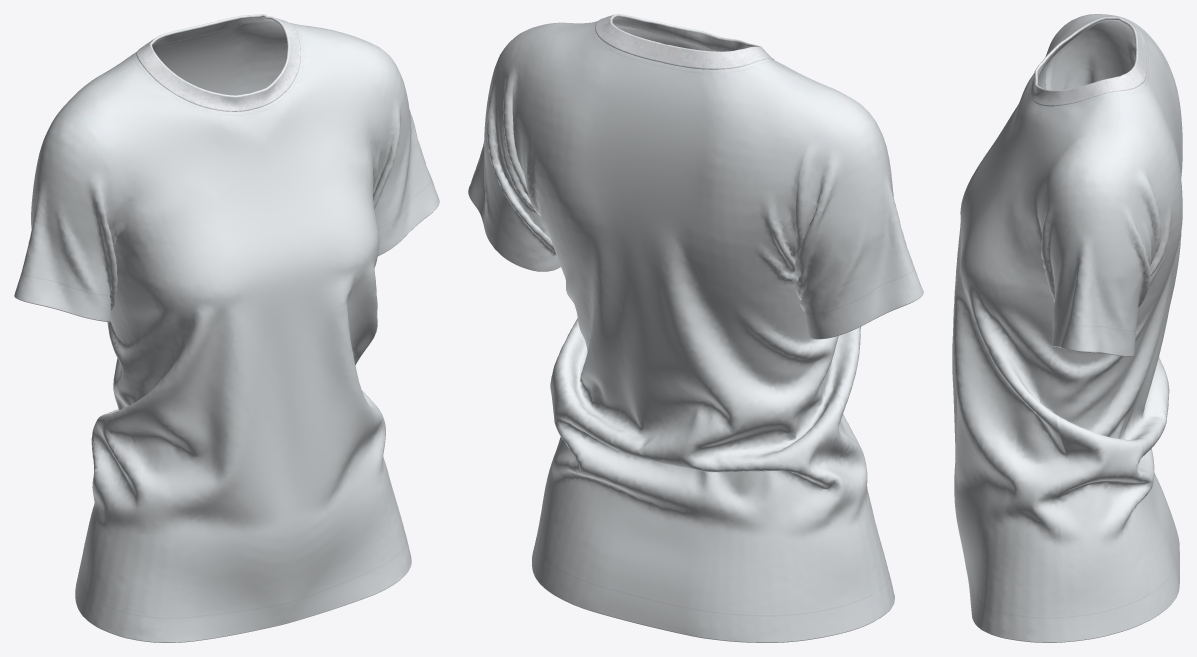
Rendered from shirt.glb.
3 renders of one model, left to right at view 1: azimuth 30°, elevation 25°; view 2: azimuth 150°, elevation 25°; view 3: azimuth 270°, elevation 25°, orthographic. The views are drawn at different scales.
Parts seen in each view (by area): view 1: t-shirt front_Node, t-shirt sleeve_right_Node, t-shirt back_Node, t-shirt sleeve_left_Node, t-shirt neck_right_Node, t-shirt neck_left_Node; view 2: t-shirt back_Node, t-shirt sleeve_right_Node, t-shirt sleeve_left_Node, t-shirt front_Node, t-shirt neck_left_Node, t-shirt neck_right_Node; view 3: t-shirt front_Node, t-shirt back_Node, t-shirt sleeve_left_Node, t-shirt sleeve_right_Node, t-shirt neck_left_Node, t-shirt neck_right_Node.
Boxes of the visible parts, left/top/right/bottom form: t-shirt front_Node: left=71, top=22, right=411, bottom=642; t-shirt sleeve_right_Node: left=14, top=104, right=117, bottom=322; t-shirt back_Node: left=65, top=21, right=365, bottom=617; t-shirt sleeve_left_Node: left=362, top=39, right=439, bottom=255; t-shirt neck_right_Node: left=136, top=25, right=253, bottom=111; t-shirt neck_left_Node: left=198, top=14, right=300, bottom=108; t-shirt back_Node: left=512, top=25, right=877, bottom=642; t-shirt sleeve_right_Node: left=794, top=101, right=923, bottom=339; t-shirt sleeve_left_Node: left=468, top=26, right=560, bottom=271; t-shirt front_Node: left=525, top=21, right=894, bottom=619; t-shirt neck_left_Node: left=595, top=14, right=721, bottom=61; t-shirt neck_right_Node: left=660, top=37, right=774, bottom=69; t-shirt front_Node: left=952, top=14, right=1119, bottom=642; t-shirt back_Node: left=1039, top=16, right=1182, bottom=641; t-shirt sleeve_left_Node: left=1041, top=153, right=1160, bottom=356; t-shirt sleeve_right_Node: left=1043, top=20, right=1135, bottom=90; t-shirt neck_left_Node: left=1031, top=49, right=1146, bottom=106; t-shirt neck_right_Node: left=1031, top=16, right=1146, bottom=91.
Size of the model in its own units: 0.4829 by 0.5932 by 0.2316.
1 material, 1 textured.
